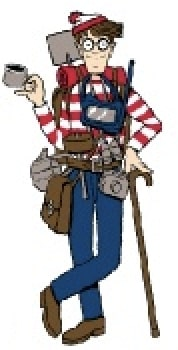Waldo: (1, 6, 166, 343)
